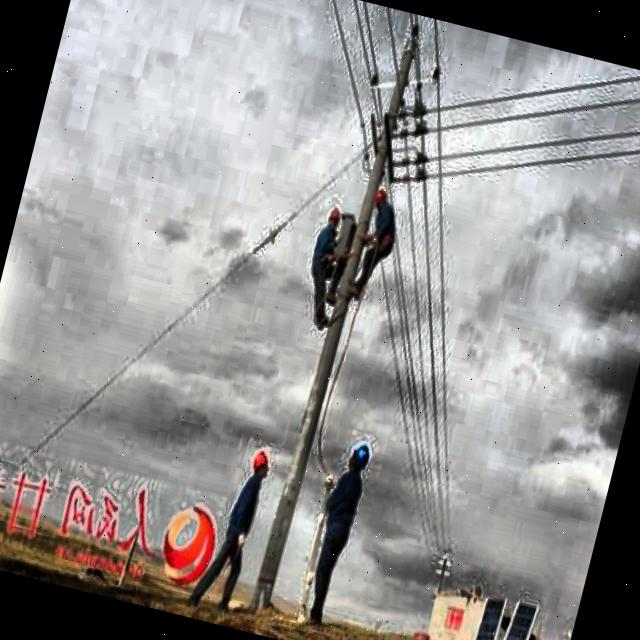helmet: (341, 438, 374, 480), (246, 443, 272, 482), (370, 182, 392, 214), (324, 205, 342, 231)
